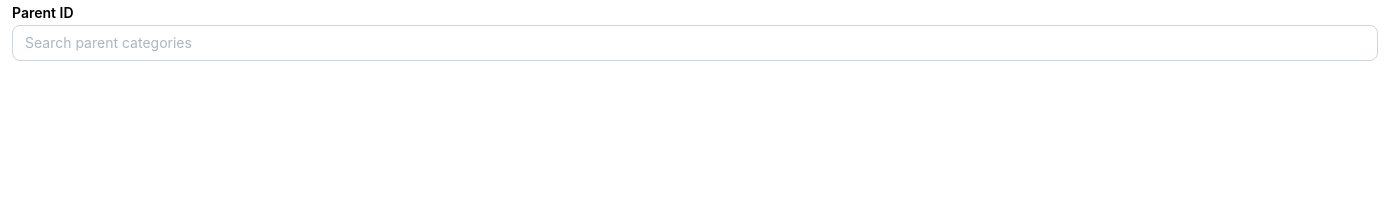
it: CategoryParentPicker › loads configured Product Category parent options and hydrates inactive selected values only when selected
Click the dropdown labelled "Parent ID" at (695, 43), box top-left (12, 25), bottom-right (1378, 61)
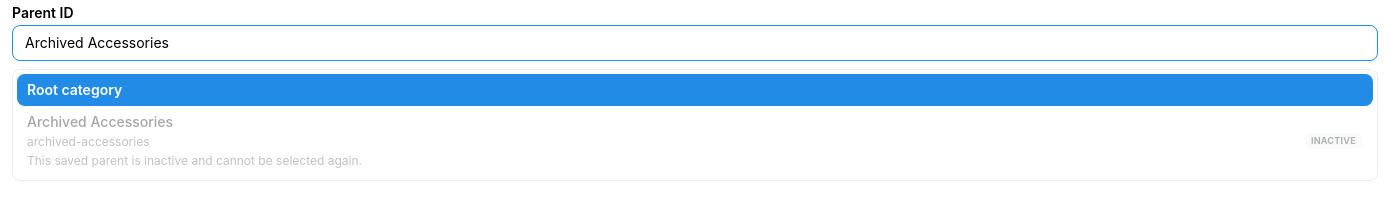
Now the option "Archived Accessories" is shown, box top-left (17, 106), bottom-right (1373, 176)
